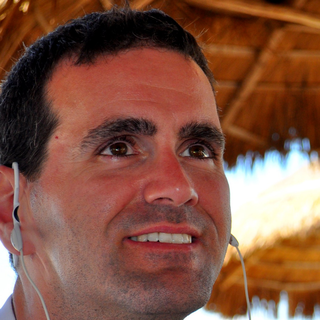eye: (85, 131, 150, 161), (175, 136, 219, 164)
